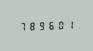eight: (26, 20, 34, 31)
nine: (36, 20, 44, 31)
one: (63, 19, 71, 30)
seven: (17, 21, 25, 31)
six: (45, 20, 53, 30)
zero: (54, 19, 62, 30)
